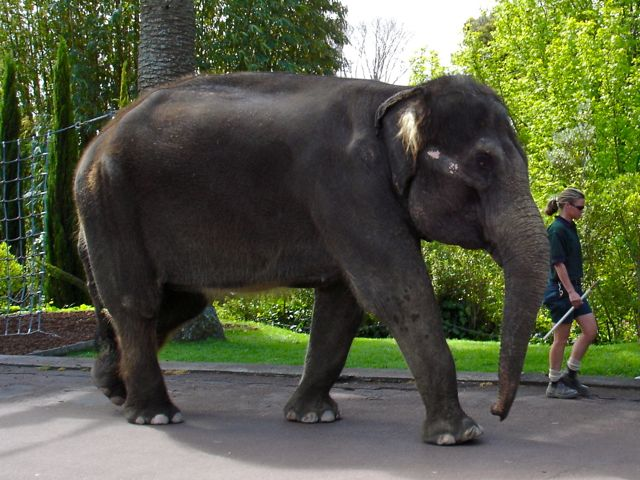elephant: (61, 59, 552, 458)
